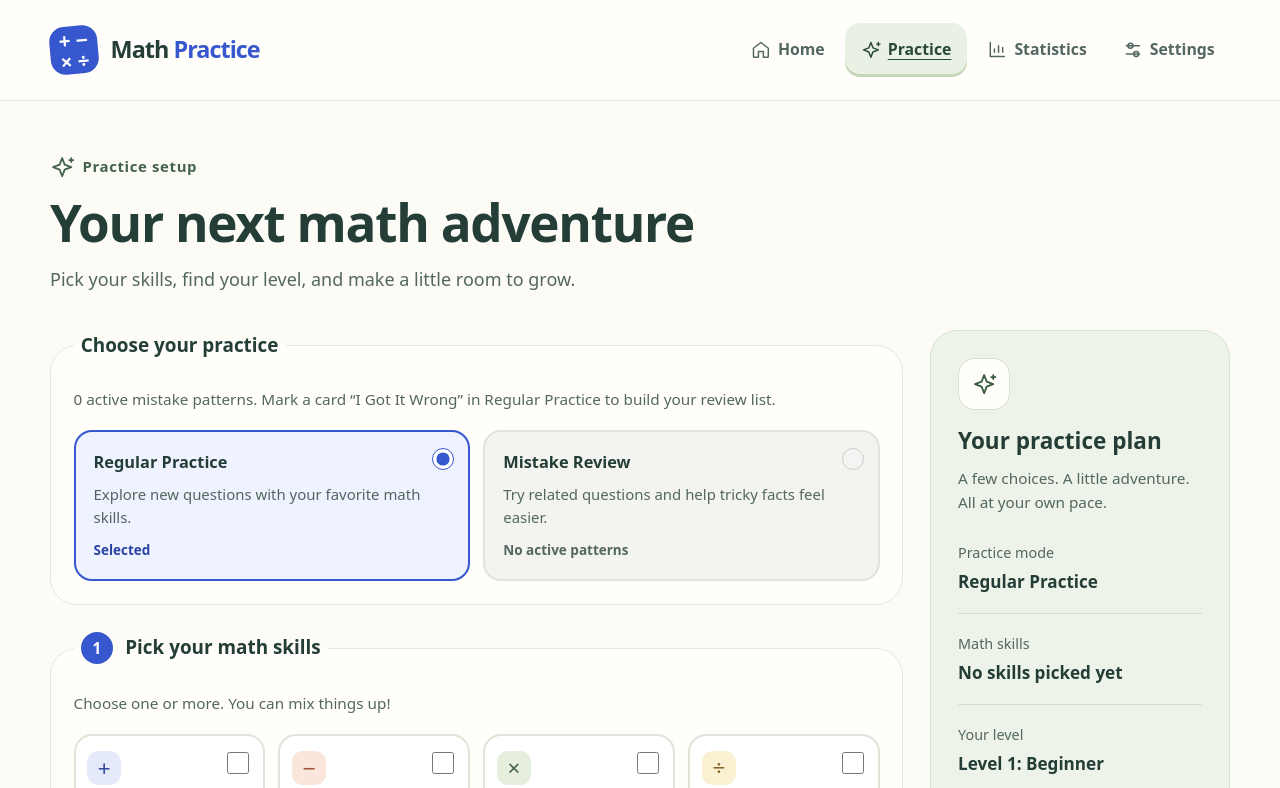
Test: duplicate answer options are never rendered and a validated fallback supports a recorded result
The width and height of the screenshot is (1280, 788).
What coordinates should you click on to do the following:
click the checkbox labelled "Addition"
I would click on:
 (238, 763)
Its box is [227,752,249,774].
(page scrolled)
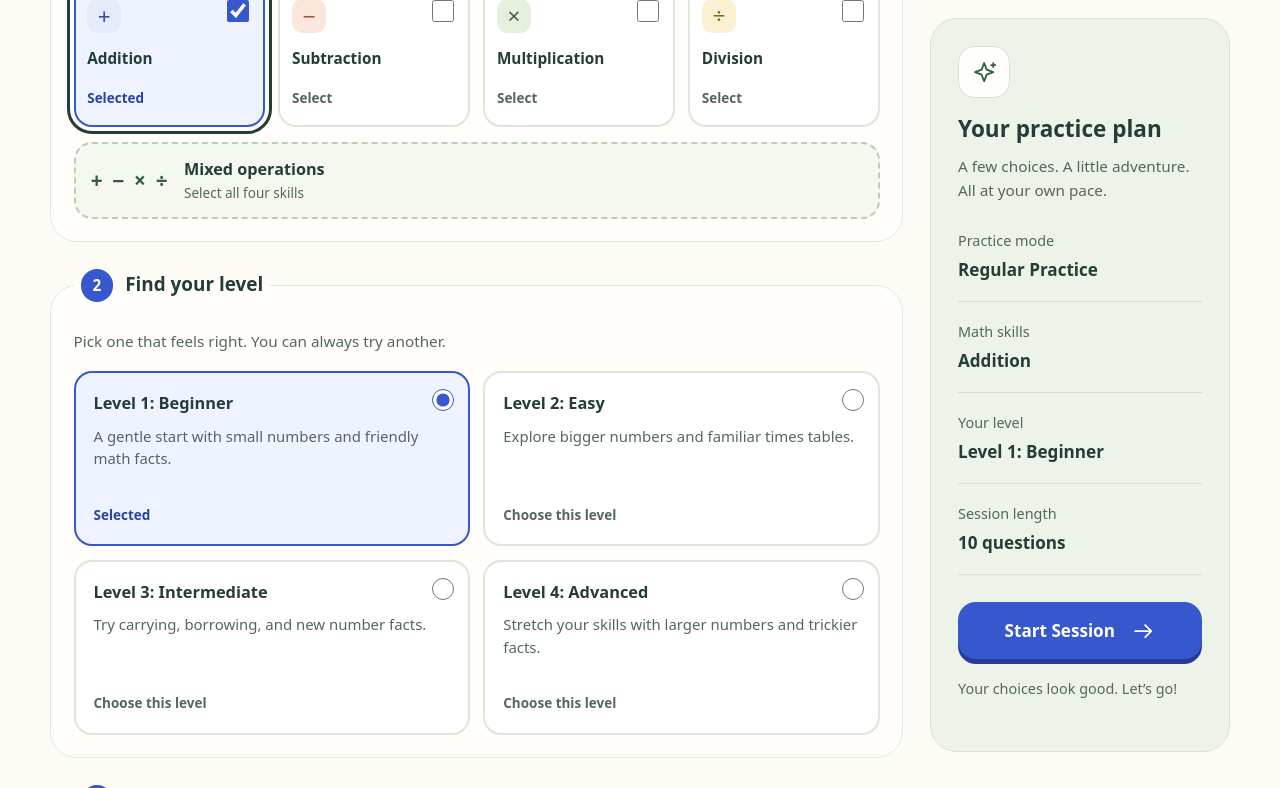
What coordinates should you click on to do the following:
click the radio button labelled "Level 1: Beginner"
I would click on:
 (443, 400)
Its box is [432,389,454,411].
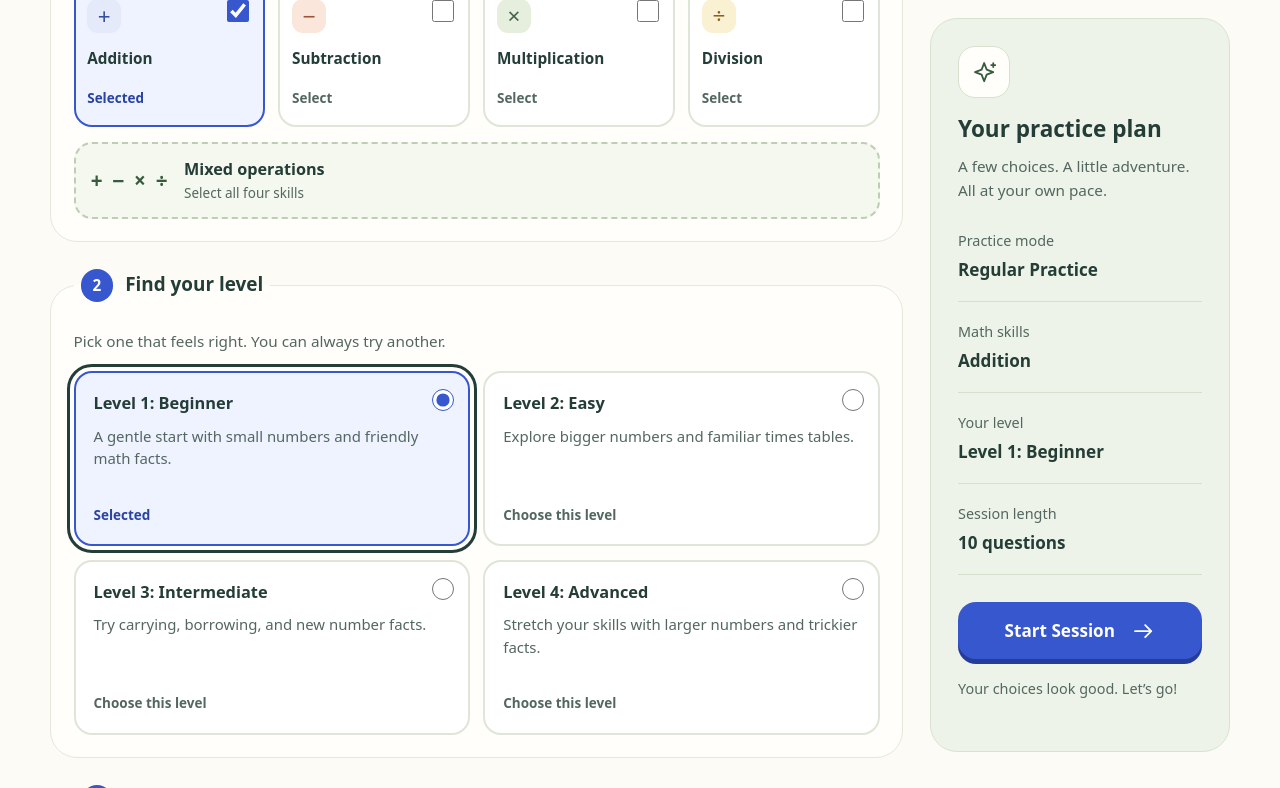
What coordinates should you click on to do the following:
click the button "Start Session"
I would click on:
 (1080, 631)
Its box is [958,602,1202,660].
(page scrolled)
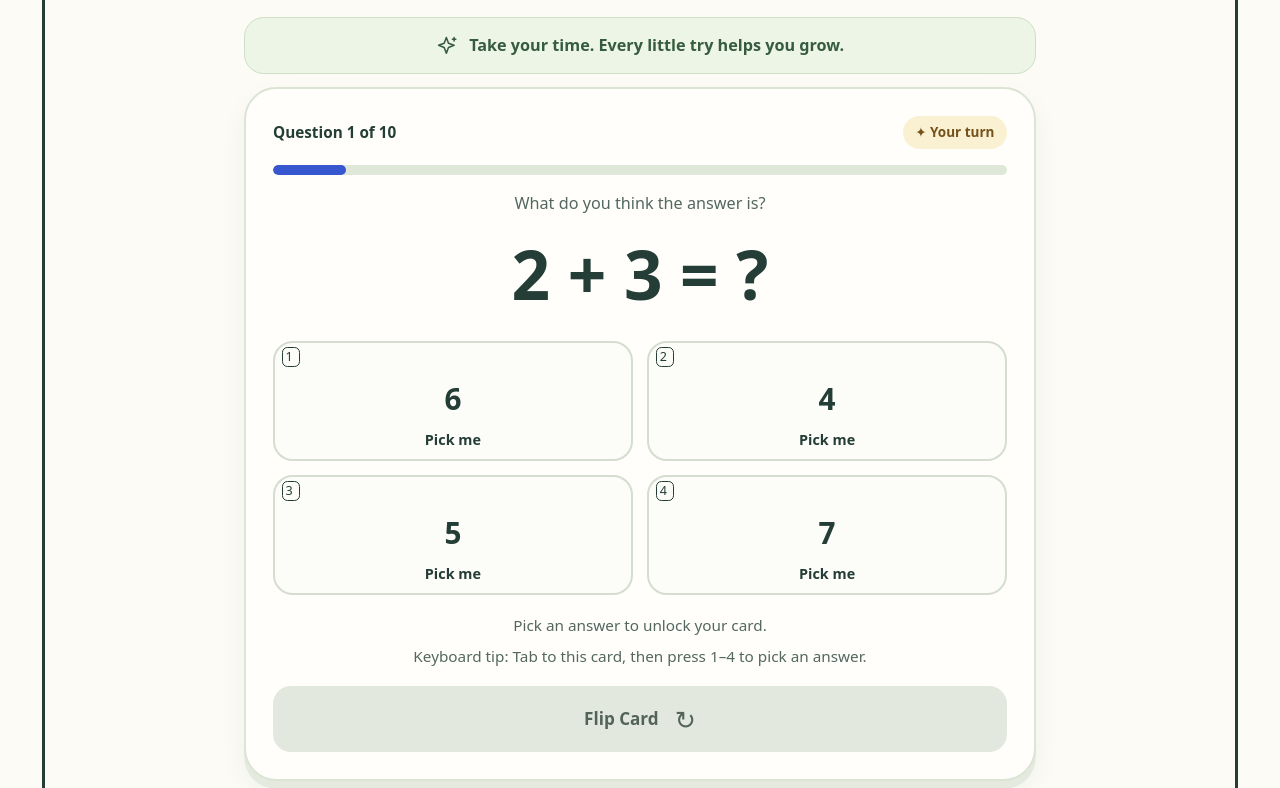
Expected: the number of buttons "6" is 4
What coordinates should you click on to do the following:
click the button "6"
I would click on:
 (453, 401)
Its box is [273,341,633,461].
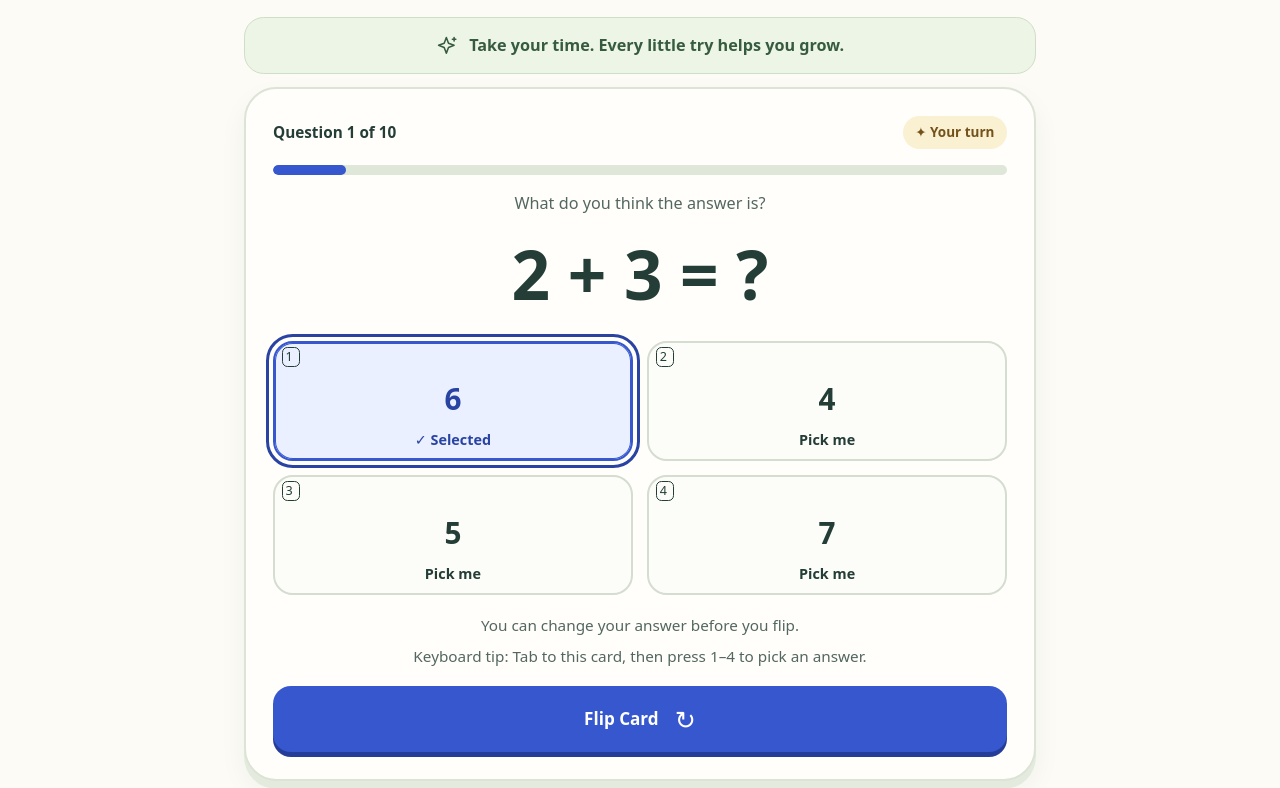
What coordinates should you click on to do the following:
click the button "Flip Card ↻"
I would click on:
 (640, 719)
Its box is [273,686,1007,752].
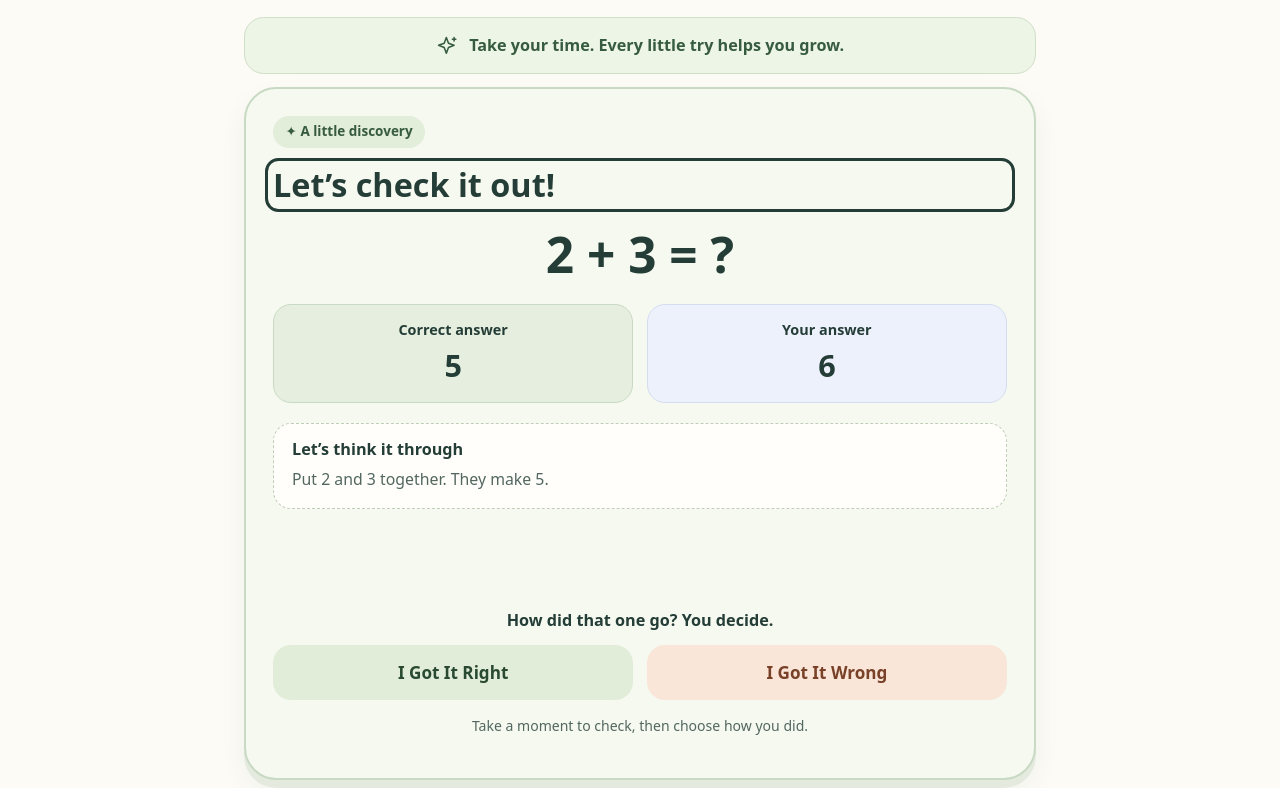
What coordinates should you click on to do the following:
click the button "I Got It Right"
I would click on:
 (453, 673)
Its box is [273,646,633,701].
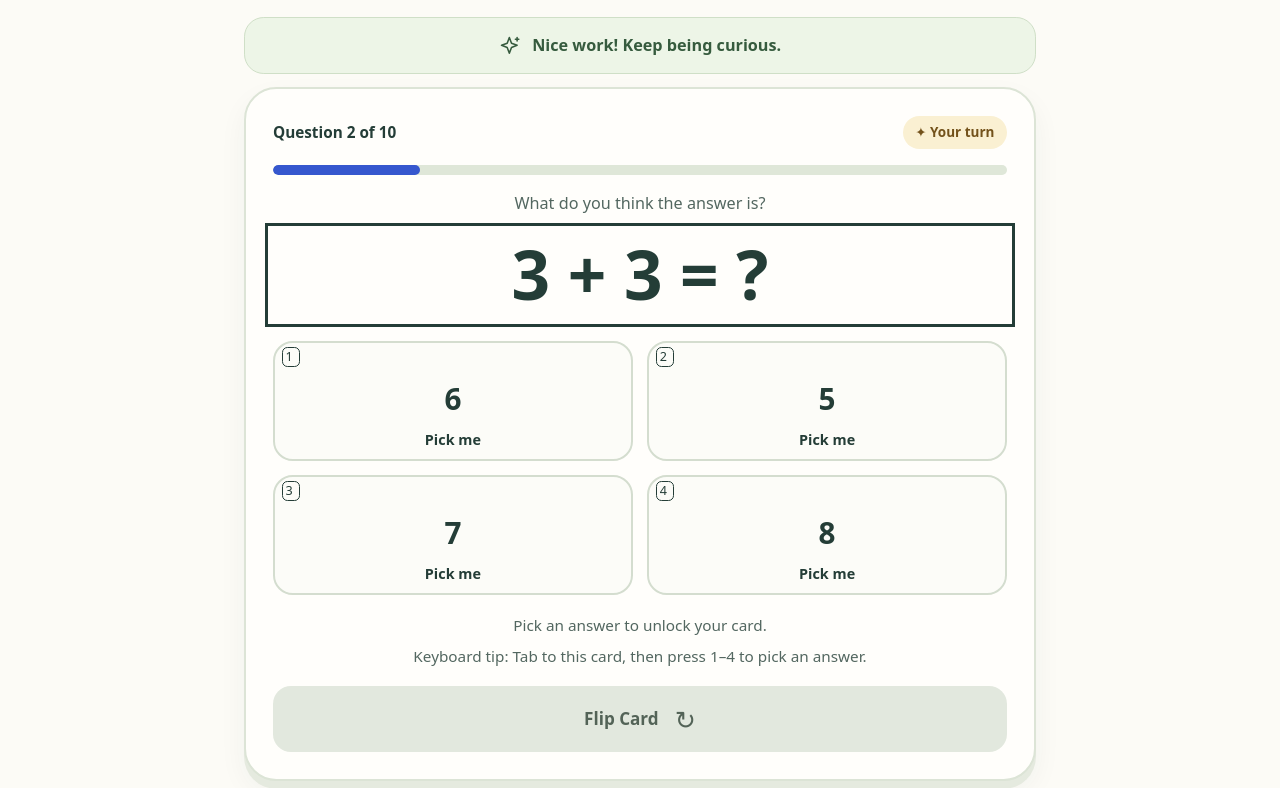
Expected: the text "Question 2 of 10" is shown, [273,120,396,145]
